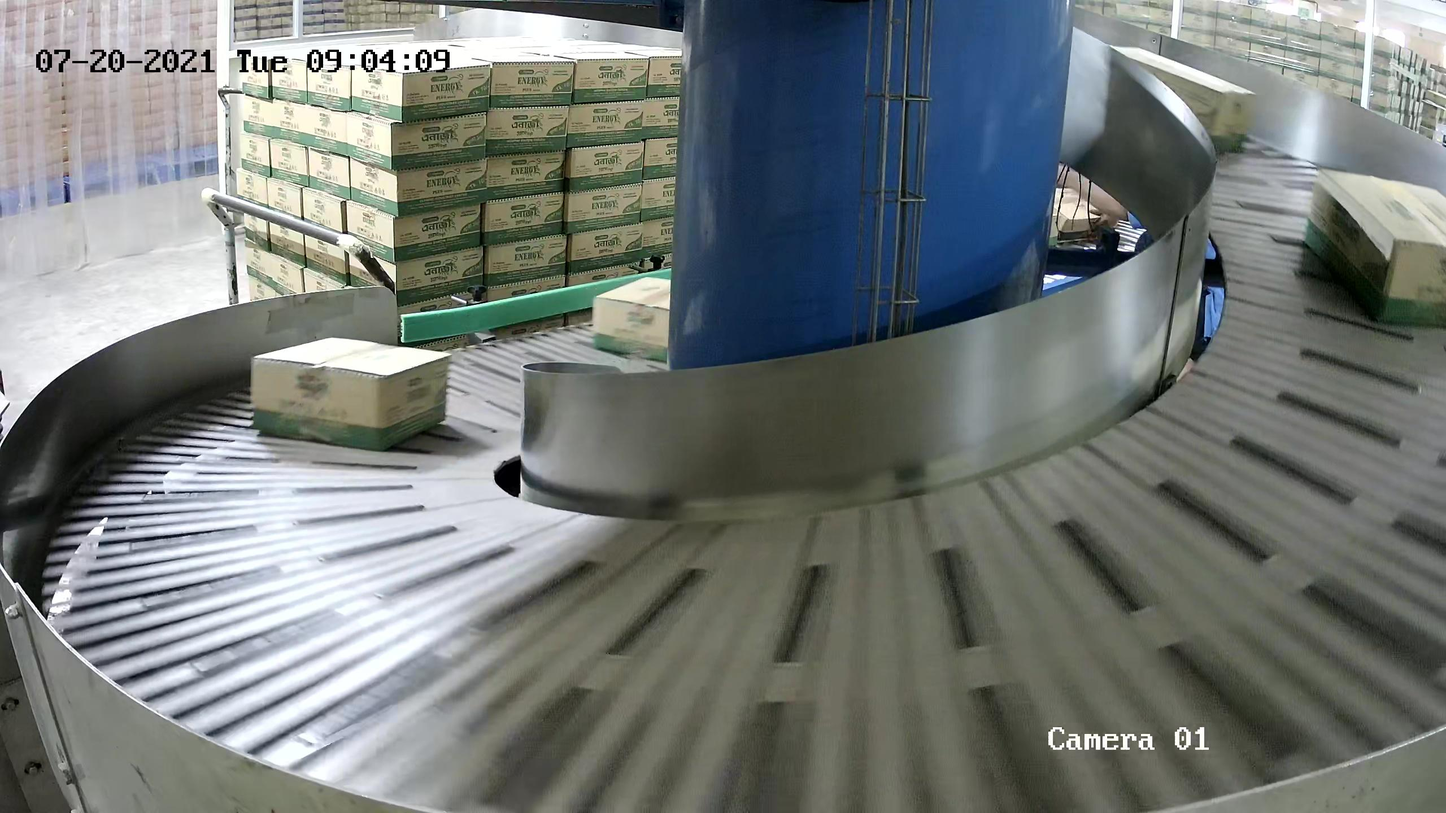Box: (250, 334, 450, 453), (1303, 168, 1446, 328), (1092, 45, 1259, 154), (592, 275, 728, 371)
